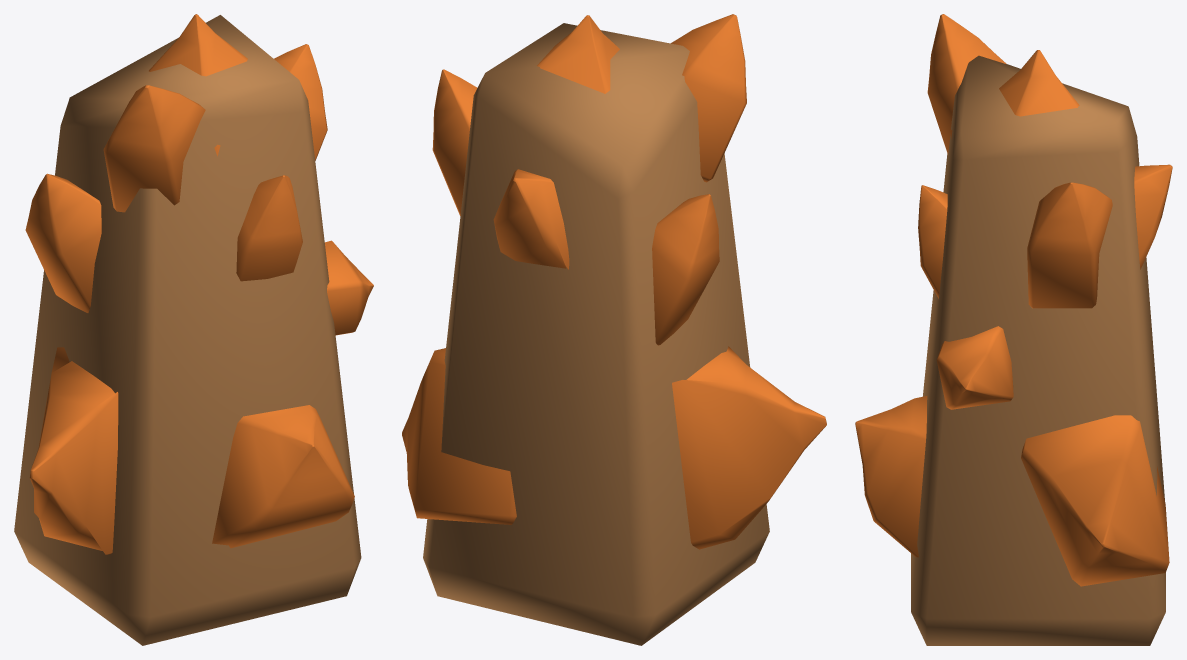
Rendered from 2ºFase_cobre.fbx.
3 views of the same model, side by side, from view 1: azimuth 30°, elevation 25°; view 2: azimuth 150°, elevation 25°; view 3: azimuth 270°, elevation 25° (orthographic). The views are drawn at different scales.
Visible parts, largest first — view 1: Cube.035, Cube.037, Cube.039, Cube.041, Cube.043, Cube.040, Cube.042, Cube.045, Cube.044; view 2: Cube.035, Cube.039, Cube.038, Cube.041, Cube.043, Cube.036, Cube.044, Cube.042; view 3: Cube.035, Cube.038, Cube.044, Cube.037, Cube.045, Cube.041, Cube.042, Cube.036, Cube.040.
Part boxes in pixels (box(x1,y1,x2,y2)): Cube.035: box(14, 15, 361, 645); Cube.037: box(212, 405, 354, 548); Cube.039: box(29, 347, 118, 554); Cube.041: box(103, 85, 205, 212); Cube.043: box(25, 173, 101, 312); Cube.040: box(236, 175, 302, 281); Cube.042: box(149, 14, 247, 156); Cube.045: box(324, 240, 373, 335); Cube.044: box(274, 44, 327, 160); Cube.035: box(423, 23, 769, 645); Cube.039: box(672, 346, 826, 549); Cube.038: box(402, 348, 516, 524); Cube.041: box(671, 14, 746, 182); Cube.043: box(652, 194, 719, 345); Cube.036: box(493, 169, 569, 269); Cube.044: box(432, 69, 477, 215); Cube.042: box(537, 15, 619, 93); Cube.035: box(911, 55, 1165, 645); Cube.038: box(1021, 415, 1169, 586); Cube.044: box(1027, 182, 1112, 308); Cube.037: box(855, 396, 927, 557); Cube.045: box(936, 326, 1013, 409); Cube.041: box(927, 14, 1006, 154); Cube.042: box(950, 50, 1079, 139); Cube.036: box(1134, 164, 1172, 269); Cube.040: box(918, 185, 947, 298).
Bounding box in the file's own units: 172 × 260 × 136.
